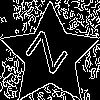Z: (25, 30, 77, 81)
